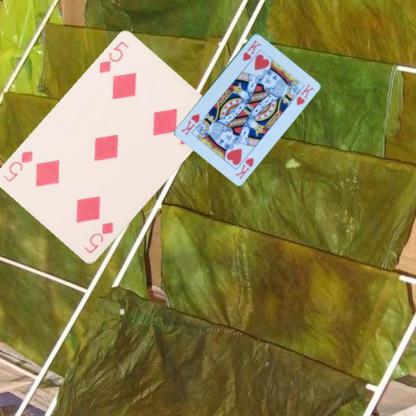5d: (80, 220, 115, 256), (96, 39, 130, 75)
Kh: (233, 155, 256, 180), (240, 37, 262, 62)
